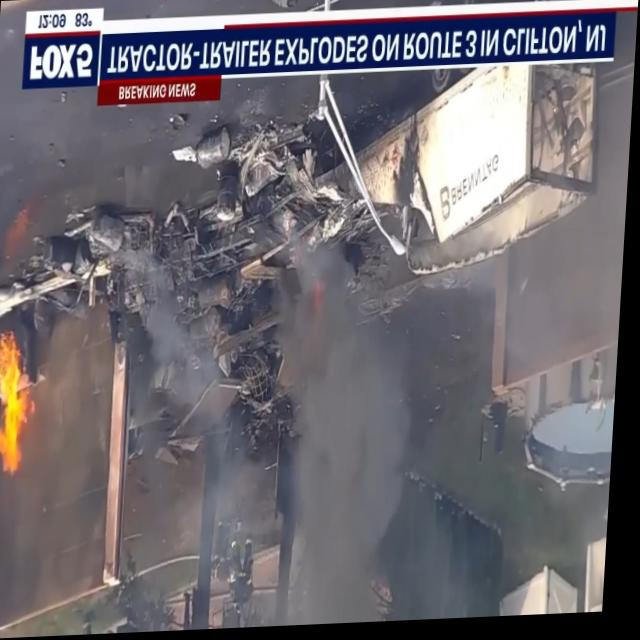Fire: (0, 328, 44, 488)
